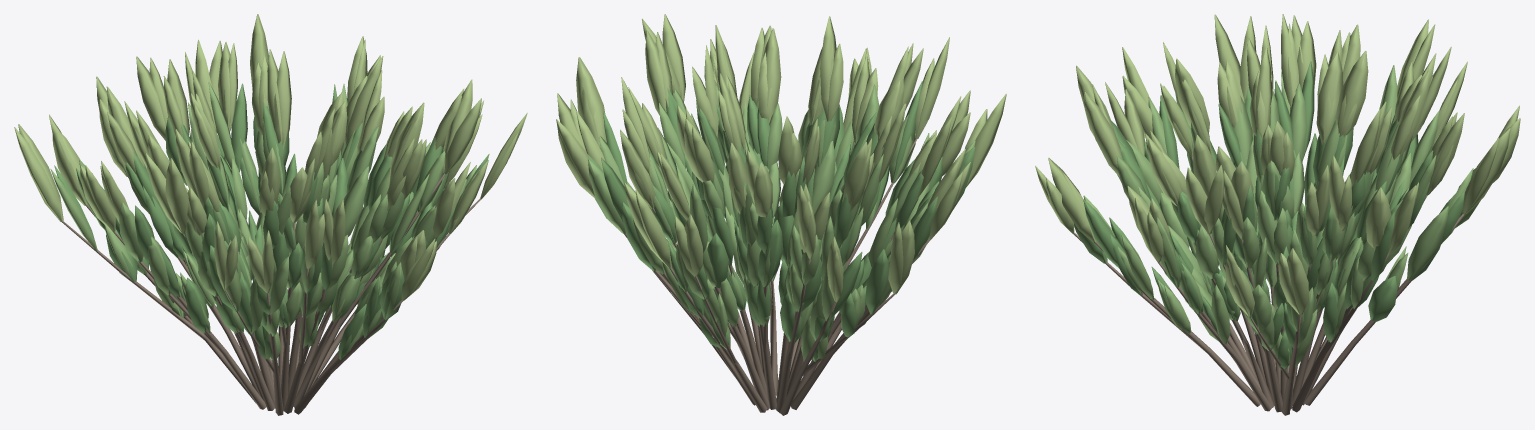
File: chirca_bush_7.glb
3 views of the same model, side by side, from view 1: azimuth 30°, elevation 25°; view 2: azimuth 150°, elevation 25°; view 3: azimuth 270°, elevation 25° (orthographic). The views are drawn at different scales.
Visible parts, largest first — view 1: ChircaFoliageTip, ChircaFoliageMid, ChircaFoliageDeep, ChircaStems; view 2: ChircaFoliageTip, ChircaFoliageDeep, ChircaFoliageMid, ChircaStems; view 3: ChircaFoliageTip, ChircaFoliageMid, ChircaFoliageDeep, ChircaStems.
Part boxes in pixels (x1=…): ChircaFoliageTip: x1=14, y1=14, x2=527, y2=300; ChircaFoliageMid: x1=50, y1=82, x2=476, y2=359; ChircaFoliageDeep: x1=54, y1=83, x2=489, y2=360; ChircaStems: x1=62, y1=131, x2=481, y2=415; ChircaFoliageTip: x1=556, y1=14, x2=1006, y2=302; ChircaFoliageDeep: x1=587, y1=81, x2=975, y2=361; ChircaFoliageMid: x1=588, y1=81, x2=975, y2=361; ChircaStems: x1=624, y1=139, x2=930, y2=415; ChircaFoliageTip: x1=1035, y1=14, x2=1520, y2=316; ChircaFoliageMid: x1=1074, y1=65, x2=1480, y2=369; ChircaFoliageDeep: x1=1074, y1=61, x2=1465, y2=369; ChircaStems: x1=1073, y1=157, x2=1464, y2=415.
Size of the model in its own units: 2.47 by 1.9 by 2.41.
